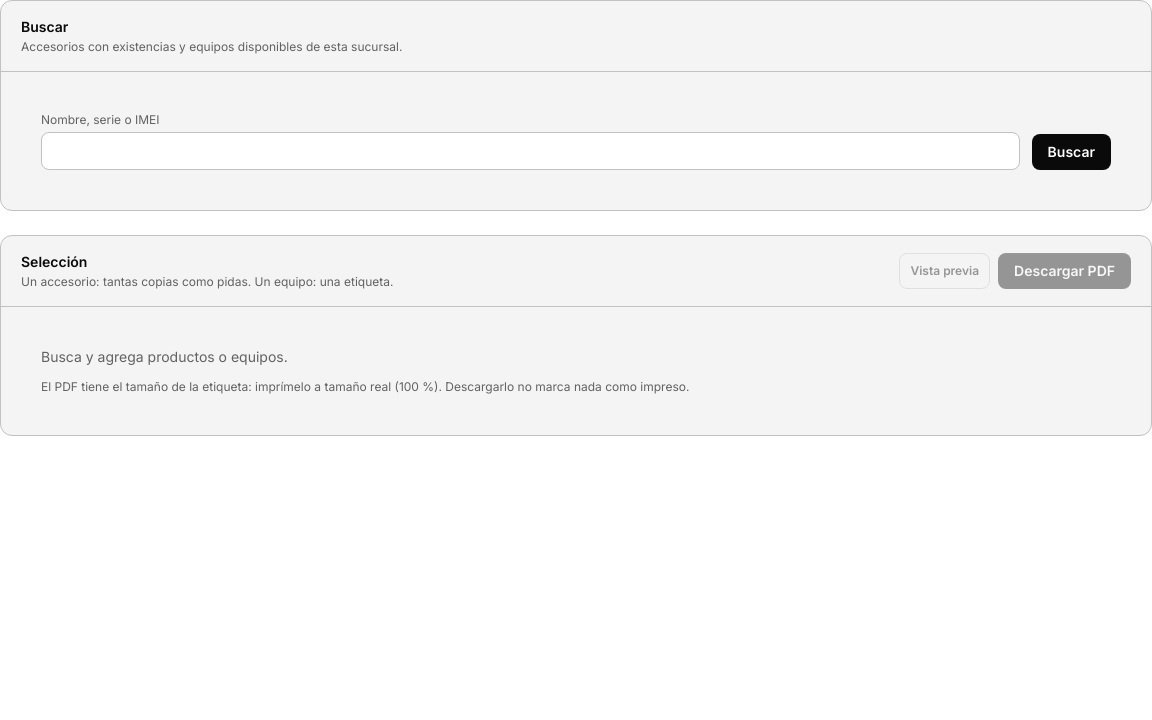
Scenario: Etiquetas y códigos de barras › un error del servidor se muestra tal cual
Click the button "Buscar": (1071, 152) 1032,134 -> 1111,170
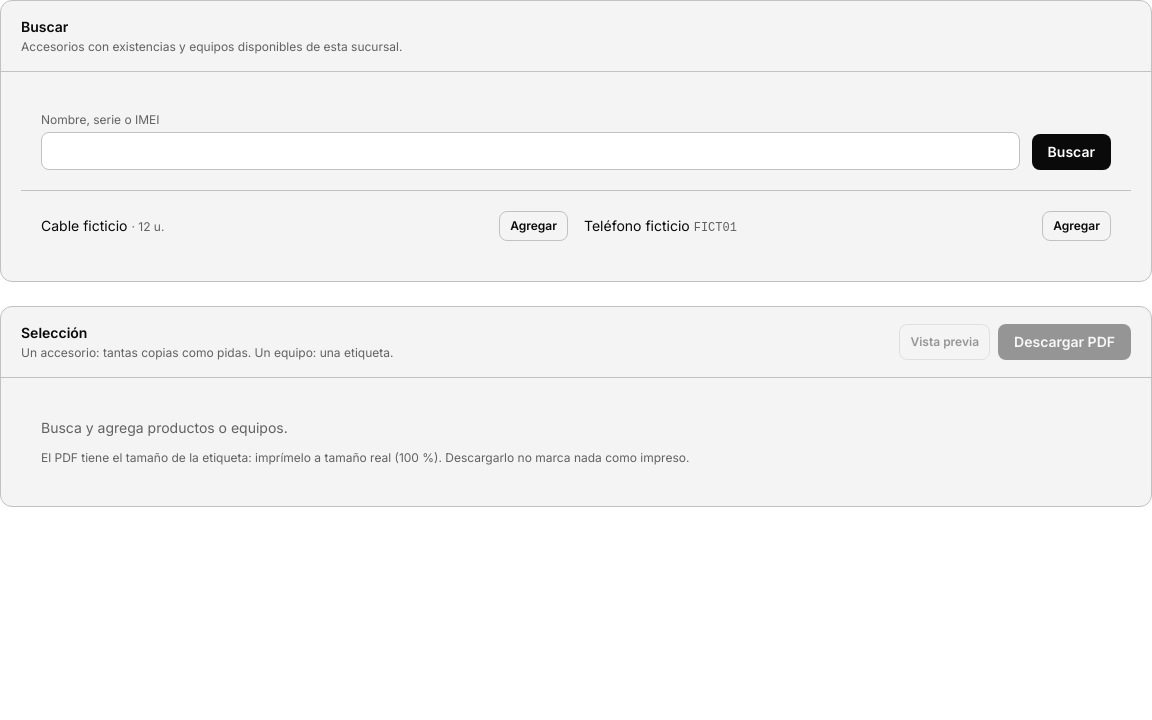
Click the button with aria-label "Agregar Cable ficticio": (534, 226) 499,211 -> 568,241
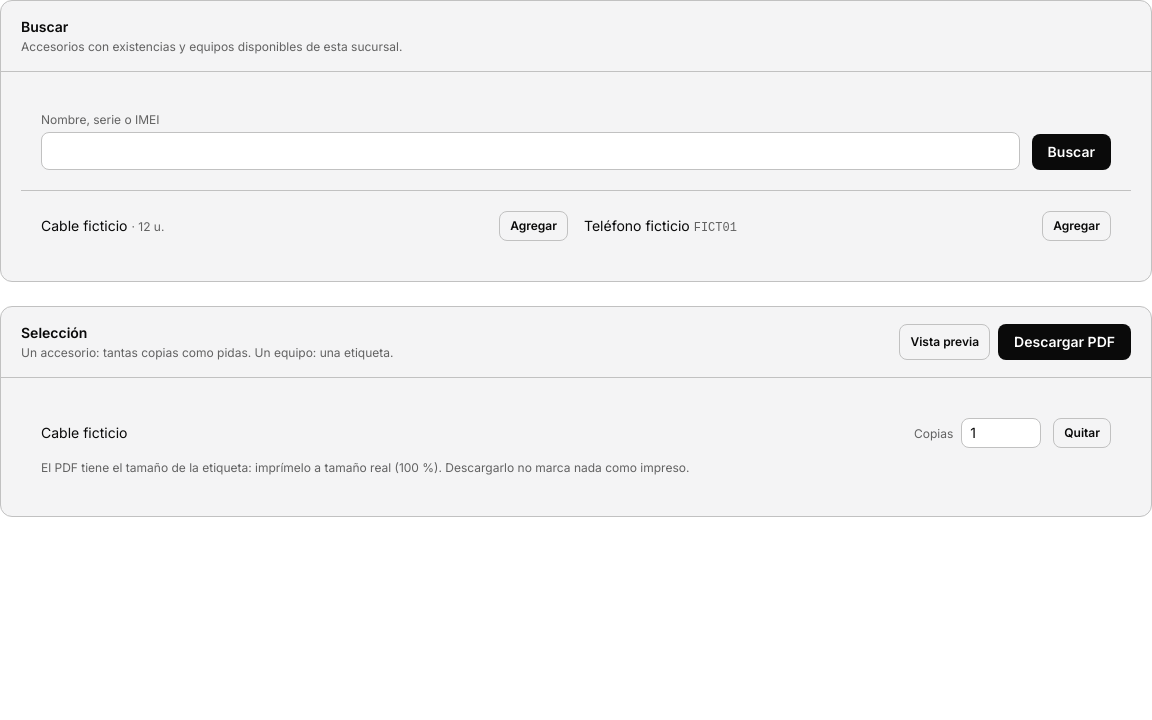
Click the button with aria-label "Agregar equipo FICT01": (1077, 226) 1042,211 -> 1111,241
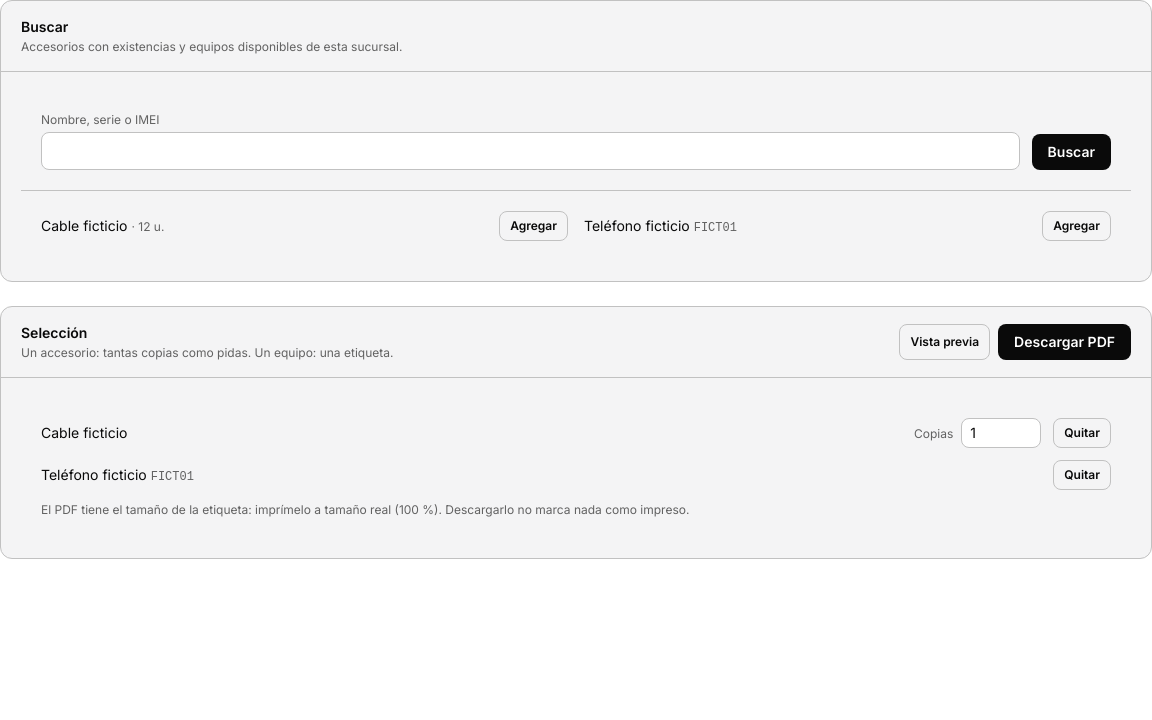
Replace the text in the number field named "Copias de Cable ficticio" with "3": (1001, 433) 961,418 -> 1041,448
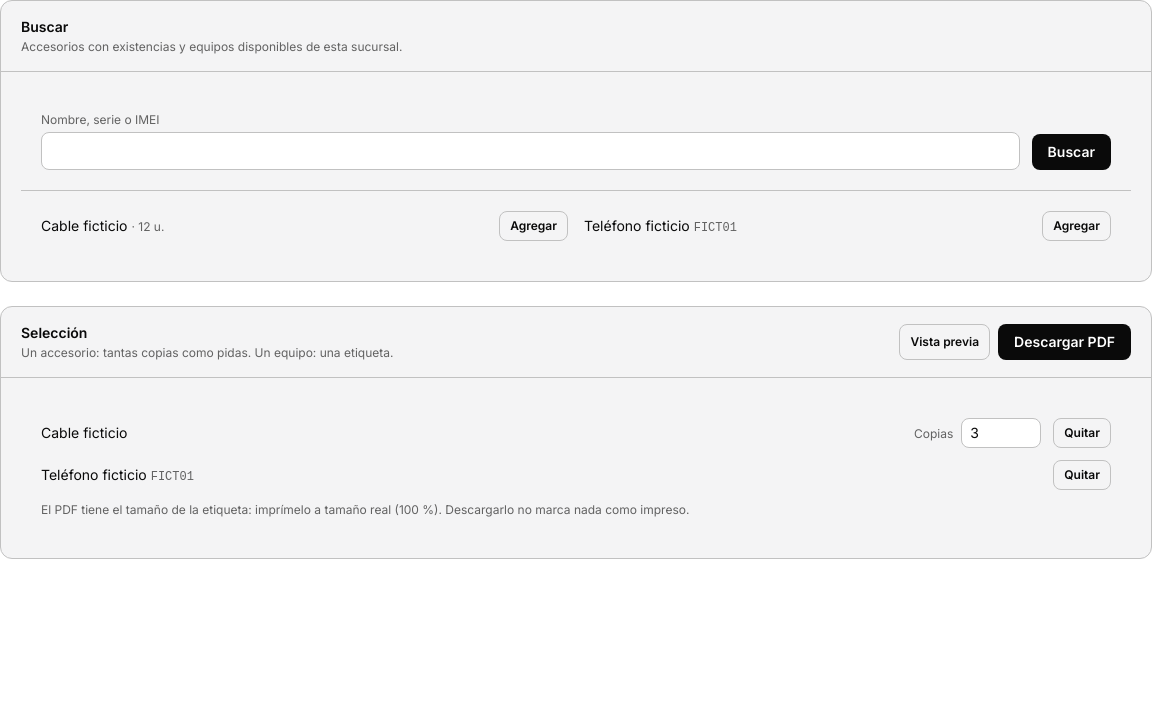
Click the button "Descargar PDF": (1065, 342) 998,324 -> 1131,360
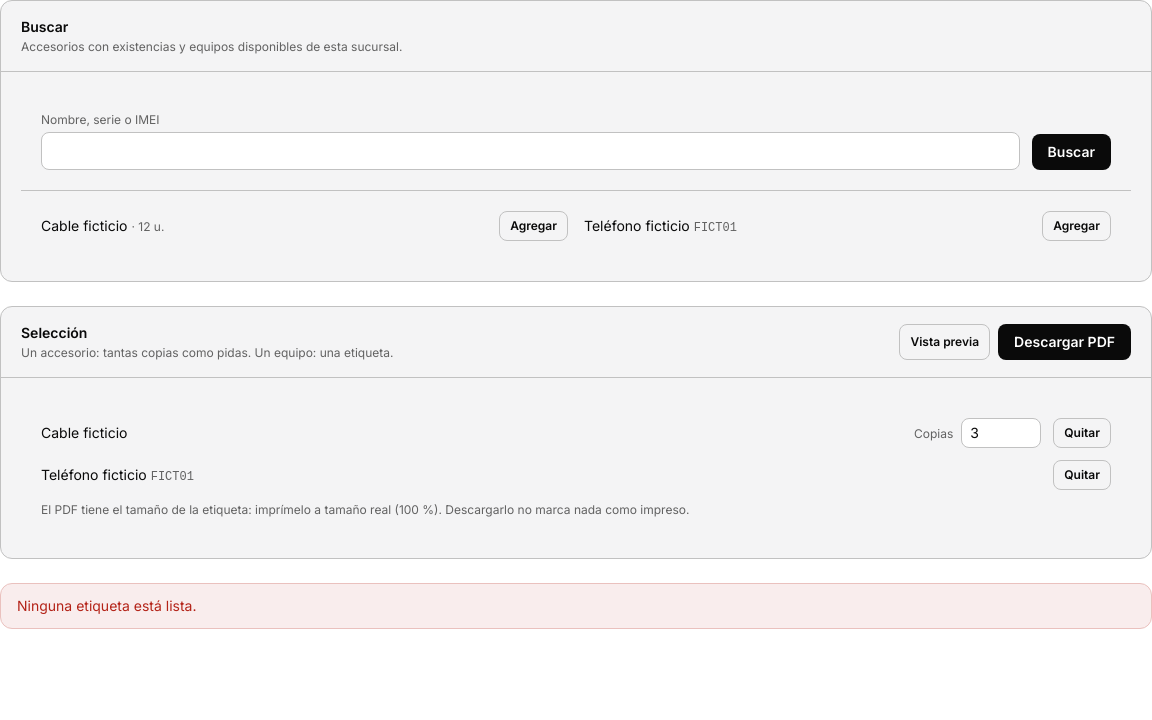
Result: the text "Ninguna etiqueta está lista." is shown at 17,597 -> 196,614
